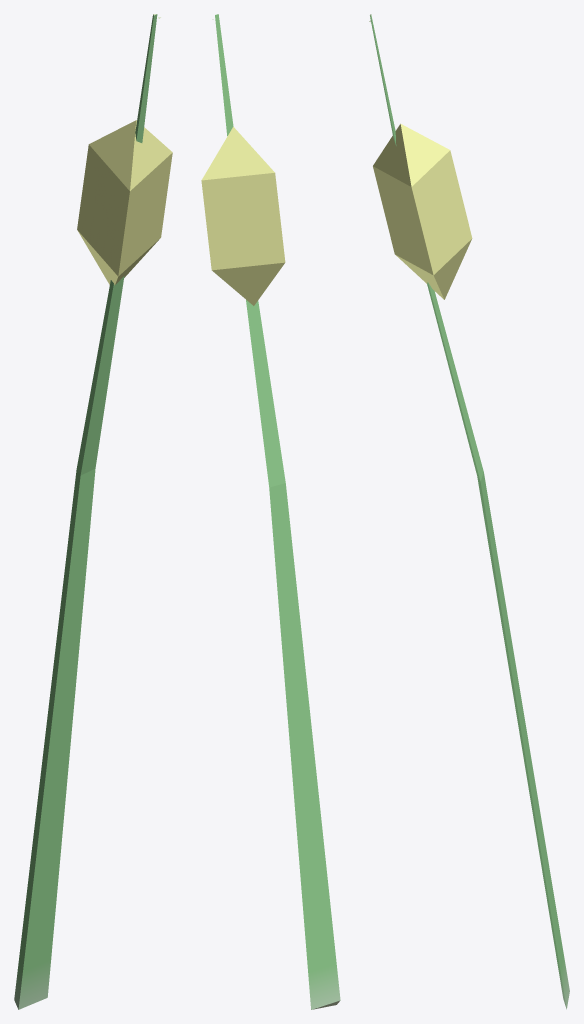
Rendered from BullRush1.fbx.
The picture shows the model from 3 angles, left to right: view 1: azimuth 30°, elevation 25°; view 2: azimuth 210°, elevation 25°; view 3: azimuth 270°, elevation 25°; orthographic projection. The views are drawn at different scales.
Parts seen in each view (by area): view 1: BullRush1; view 2: BullRush1; view 3: BullRush1.
Part boxes in pixels (<box>): BullRush1: <box>14,14,172,1009</box>; BullRush1: <box>201,14,340,1009</box>; BullRush1: <box>369,14,569,1009</box>.
Bounding box in the file's own units: 3.35 × 45.71 × 8.33.
